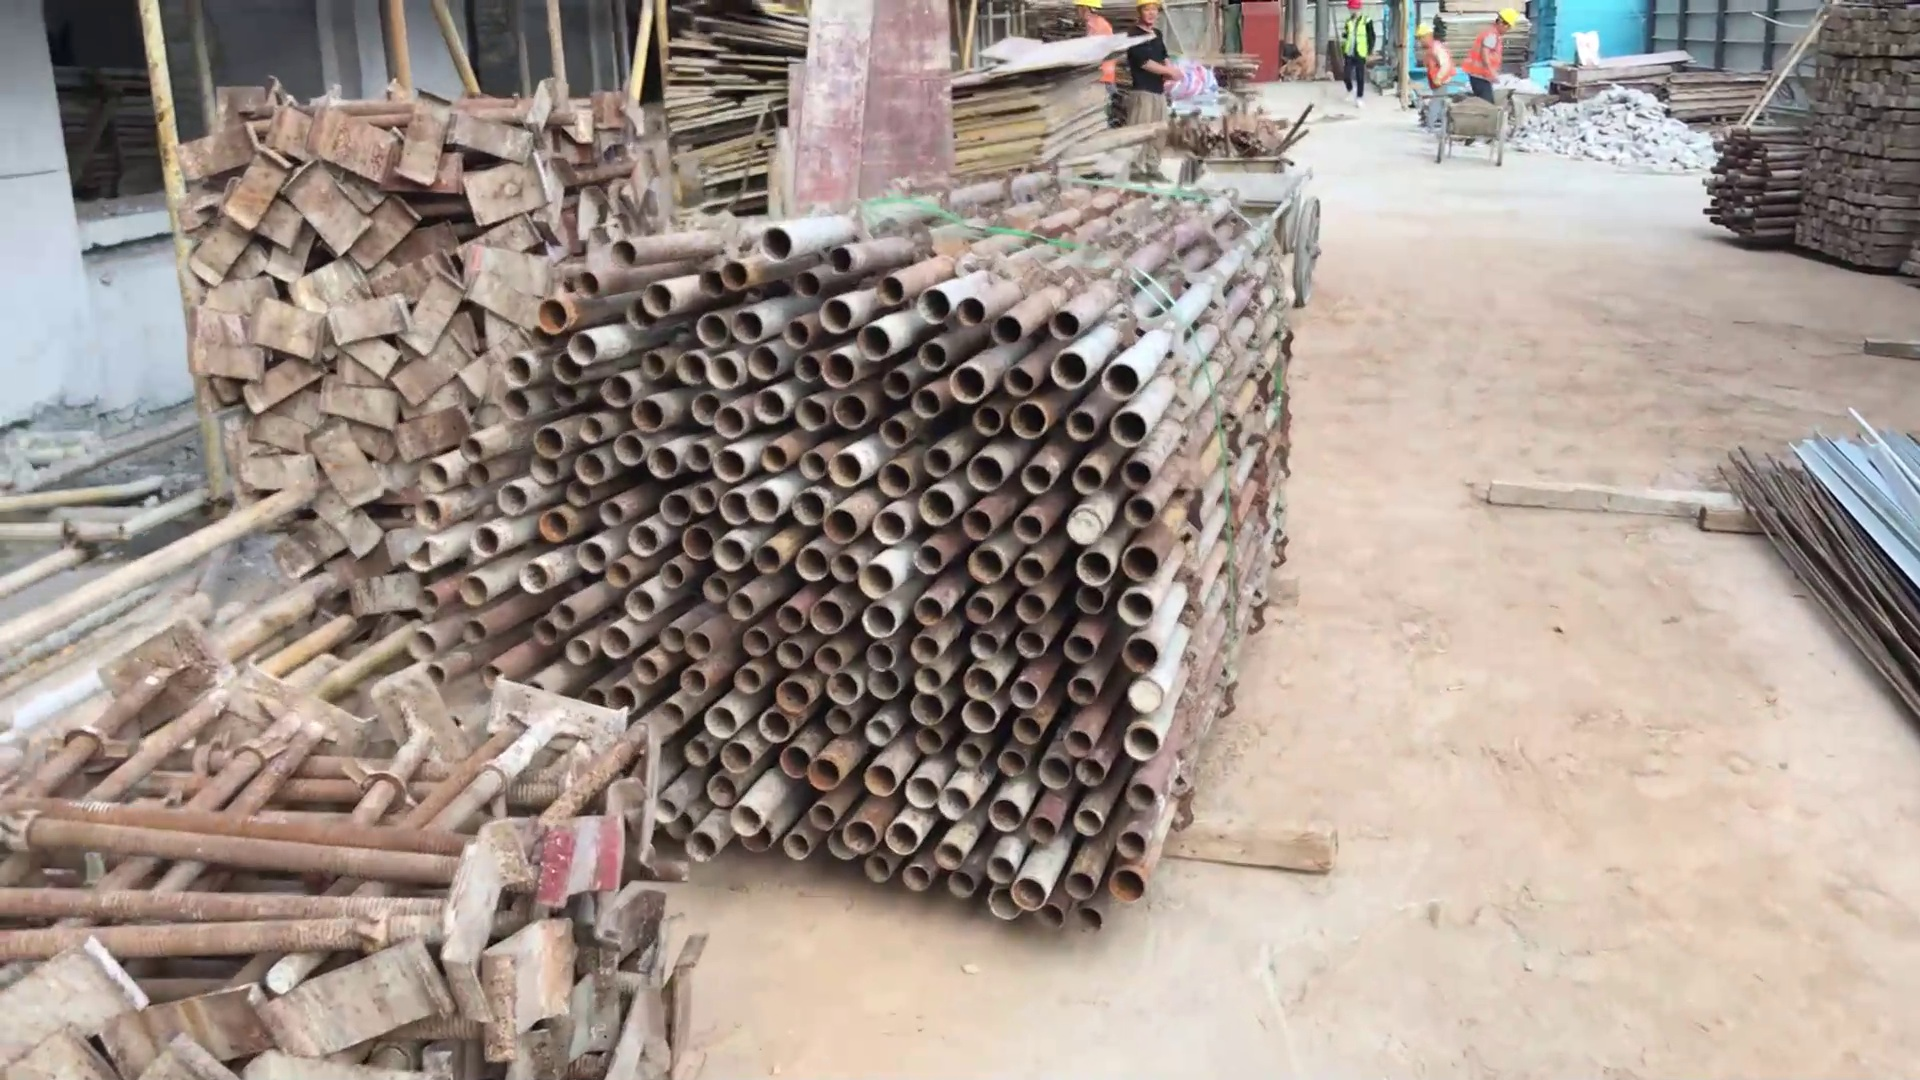board: (938, 19, 1136, 200)
handcart: (1181, 162, 1323, 309), (1429, 92, 1516, 172)
helmet: (1494, 6, 1520, 30), (1409, 20, 1438, 41), (1133, 1, 1163, 11), (1075, 1, 1104, 11), (1344, 1, 1364, 13)
person: (1120, 1, 1187, 184), (1460, 4, 1520, 109), (1068, 1, 1120, 125), (1408, 19, 1459, 134), (1334, 1, 1381, 112)
scaffold: (376, 167, 1310, 926)
vest: (1461, 29, 1508, 86), (1084, 15, 1119, 90), (1422, 40, 1457, 89), (1343, 13, 1370, 63)
wood: (1782, 3, 1920, 281)
